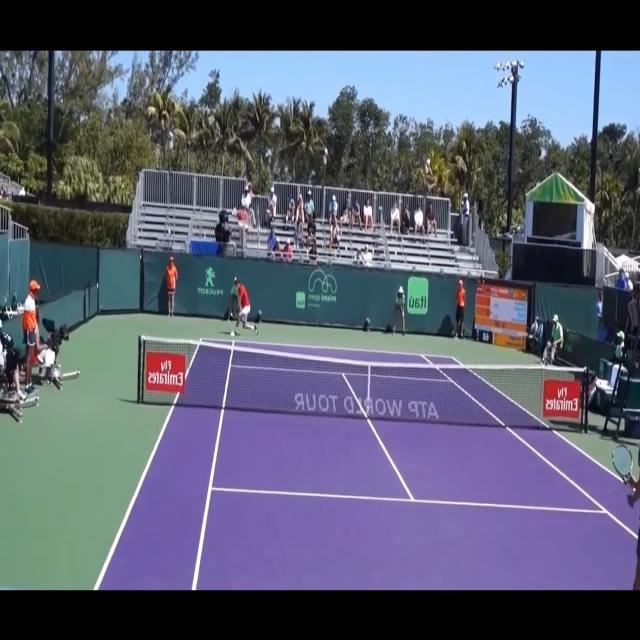court: (93, 338, 640, 590)
net: (136, 333, 590, 421)
player: (610, 440, 640, 590)
